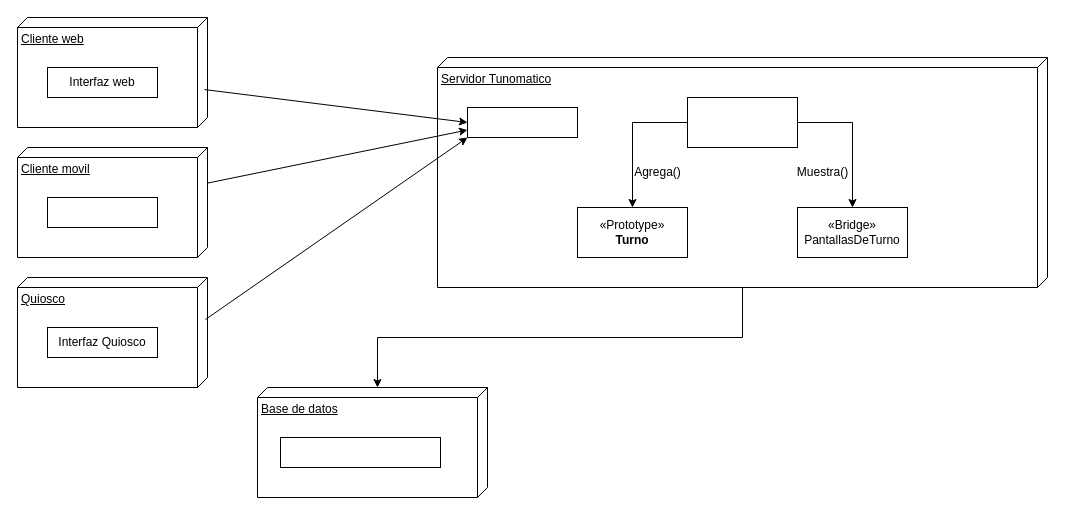
Some shapes in this 1065 by 515 pixel diagram are drawn without their labels. Each missing label, with the centre of its shape:
API REST: (522,122)
App Movil: (102,212)
Nosemeocurriounnombre.db: (360,452)
«Singleton» GestorDeTurnos: (742,122)
